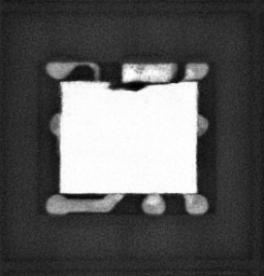DIE_BROKEN: (105, 78, 152, 94)
